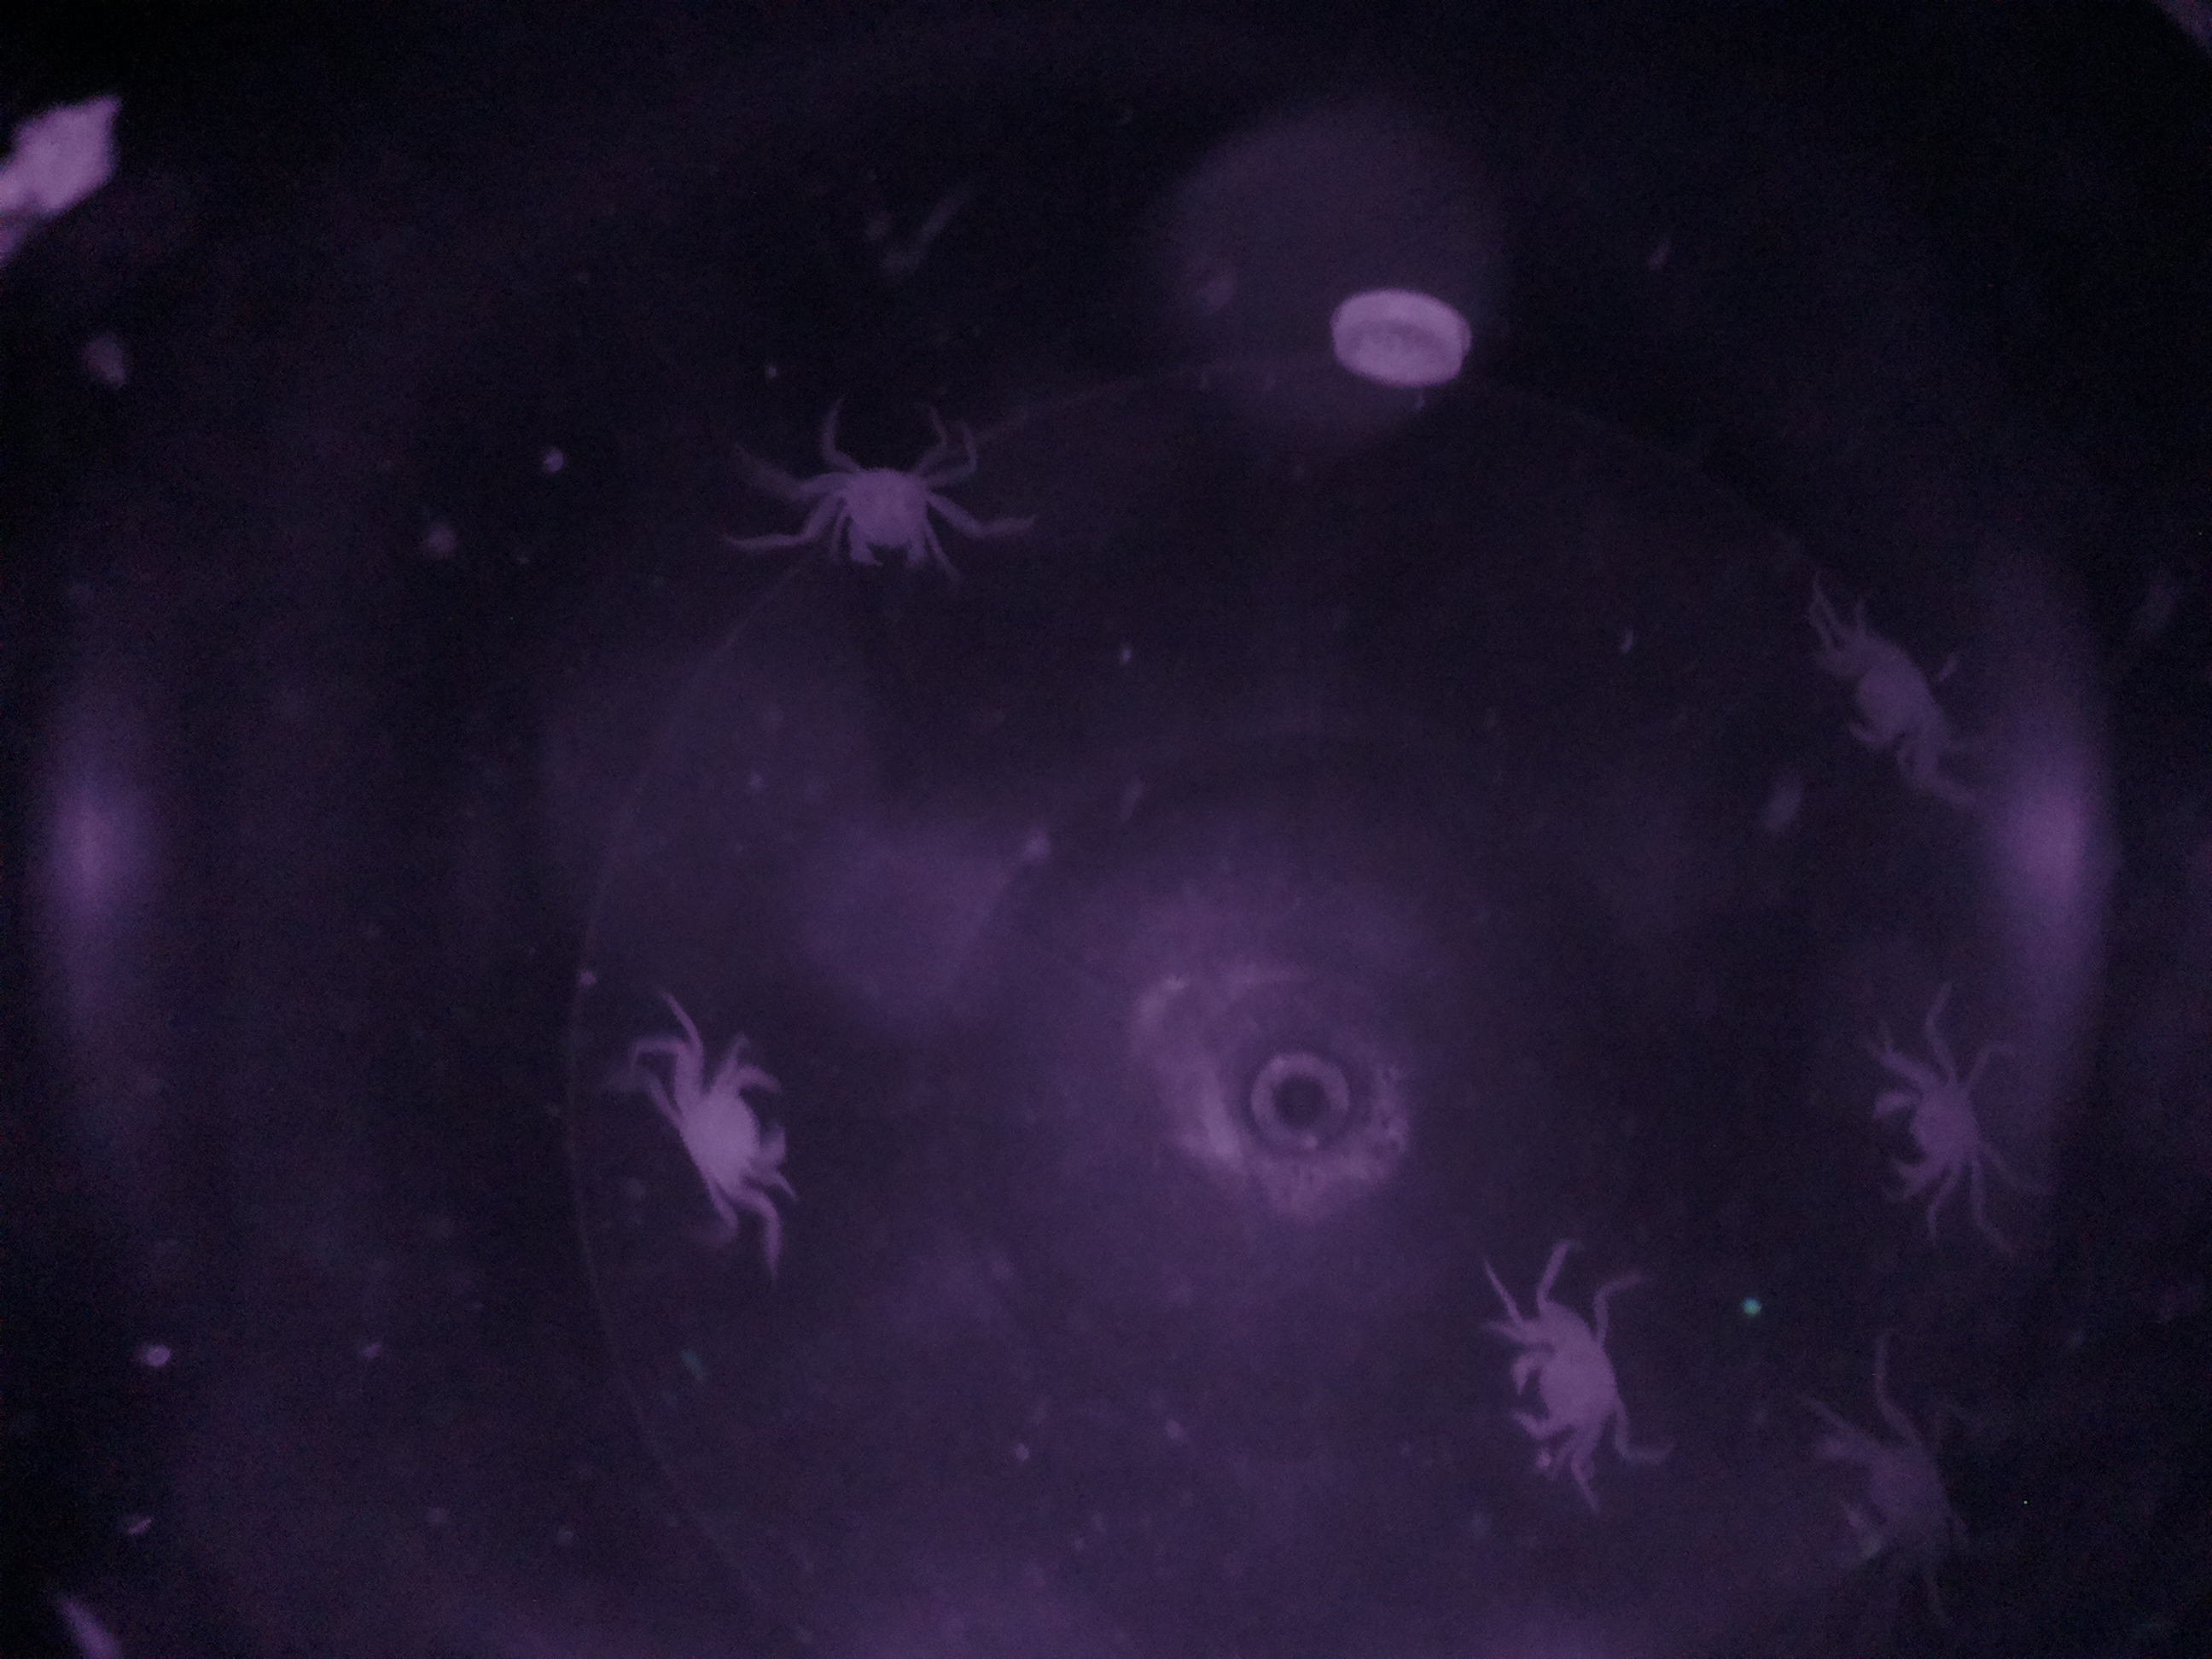Crab: (1479, 1291, 1648, 1497), (631, 1032, 794, 1241), (1858, 1044, 2012, 1227)
